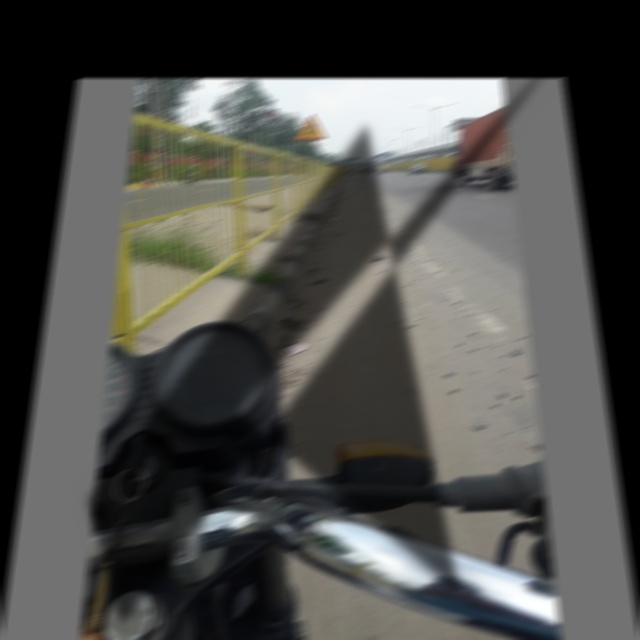Merge_Traffic_Ahead: (293, 109, 330, 144)
